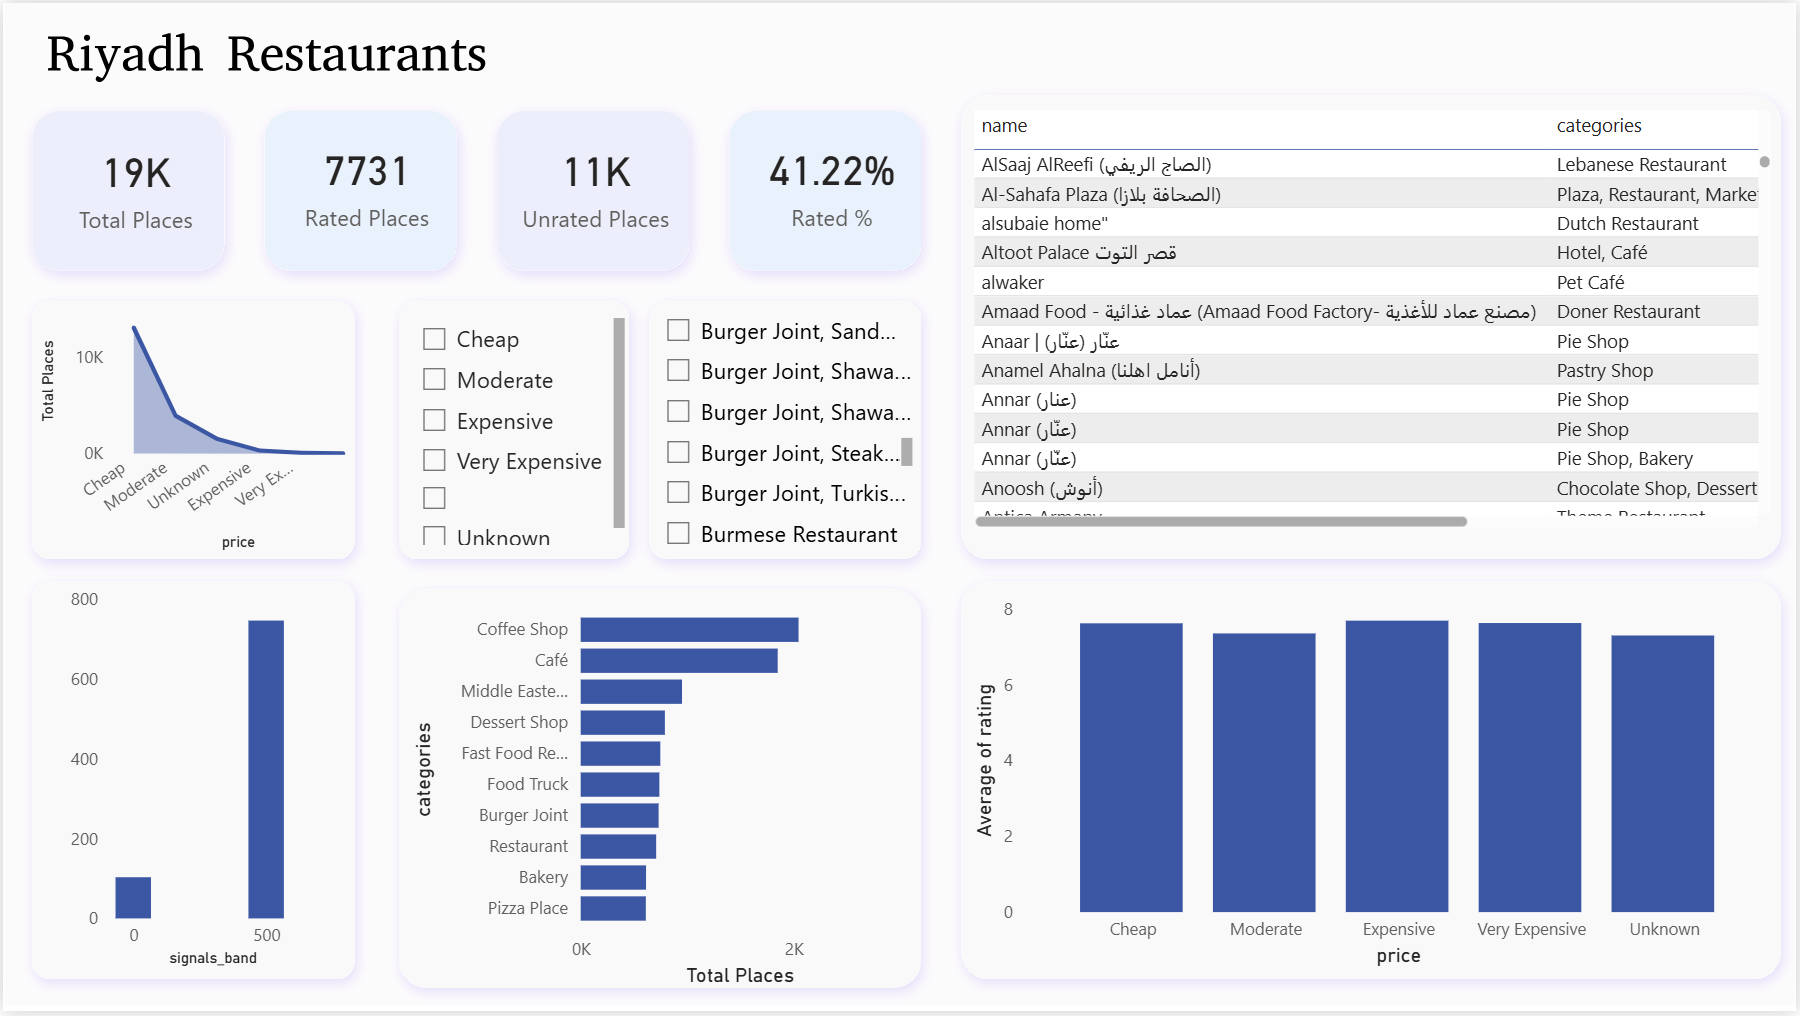

The page's visual inventory and layout, read from the dashboard file:
{"tool":"powerbi","page":{"name":"Page 1","canvas":[1280,720],"ordinal":0},"visuals":[{"type":"card","fields":{"Values":["Restaurants_All.Total Places"]},"box":[21.4,77.1,147.1,105.7],"z":0},{"type":"card","fields":{"Values":["Restaurants_All.Rated Places"]},"box":[185.7,77.1,148.6,102.9],"z":1000},{"type":"card","fields":{"Values":["Restaurants_All.Unrated Places"]},"box":[350,77.1,147.1,104.3],"z":2000},{"type":"card","fields":{"Values":["Restaurants_All.Rated %"]},"box":[518.6,75.7,147.1,105.7],"z":3000},{"type":"stackedAreaChart","fields":{"Category":["Restaurants_All.price"],"Y":["Restaurants_All.Total Places"]},"box":[21.4,204.3,238.6,191.4],"z":4000},{"type":"clusteredBarChart","fields":{"Category":["Restaurants_All.categories"],"Y":["Restaurants_All.Total Places"]},"box":[287.8,417.8,365.6,290],"z":5000},{"type":"slicer","fields":{"Values":["Restaurants_All.price"]},"box":[287.3,220,161.8,171.8],"z":6000},{"type":"slicer","fields":{"Values":["Restaurants_All.categories"]},"box":[460.9,217.3,192.7,178.2],"z":7000},{"type":"columnChart","fields":{"Category":["Restaurants_All.signals_band"],"Y":["Restaurants_All.Total Places"]},"box":[42.9,411.4,184.3,281.4],"z":8000},{"type":"columnChart","fields":{"Category":["Restaurants_All.price"],"Y":["Avg(Restaurants_All.rating)"]},"box":[687.1,418.6,580,274.3],"z":9000},{"type":"tableEx","fields":{"Values":["Restaurants_All.name","Restaurants_All.categories","Restaurants_All.price"]},"box":[686.7,71.7,580,308.3],"z":10000}]}

Visuals, with their boxes in screenshot pixels (x1, y1, x2, y2), scaled from the page's 1280x720 canvas onto the 1800x1016 screenshot:
card - Restaurants_All.Total Places: <bbox>30, 109, 237, 258</bbox>
card - Restaurants_All.Rated Places: <bbox>261, 109, 470, 254</bbox>
card - Restaurants_All.Unrated Places: <bbox>492, 109, 699, 256</bbox>
card - Restaurants_All.Rated %: <bbox>729, 107, 936, 256</bbox>
stackedAreaChart - Restaurants_All.price x Restaurants_All.Total Places: <bbox>30, 288, 366, 558</bbox>
clusteredBarChart - Restaurants_All.categories x Restaurants_All.Total Places: <bbox>405, 590, 919, 999</bbox>
slicer - Restaurants_All.price: <bbox>404, 310, 632, 553</bbox>
slicer - Restaurants_All.categories: <bbox>648, 307, 919, 558</bbox>
columnChart - Restaurants_All.signals_band x Restaurants_All.Total Places: <bbox>60, 581, 320, 978</bbox>
columnChart - Restaurants_All.price x Avg(Restaurants_All.rating): <bbox>966, 591, 1782, 978</bbox>
tableEx - Restaurants_All.name x Restaurants_All.categories: <bbox>966, 101, 1781, 536</bbox>
